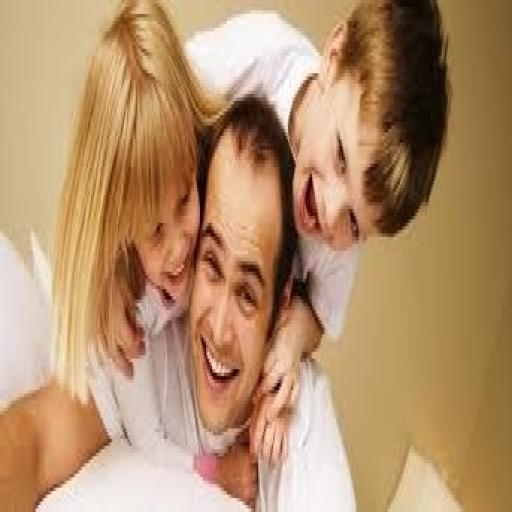hugging: (1, 0, 454, 509)
